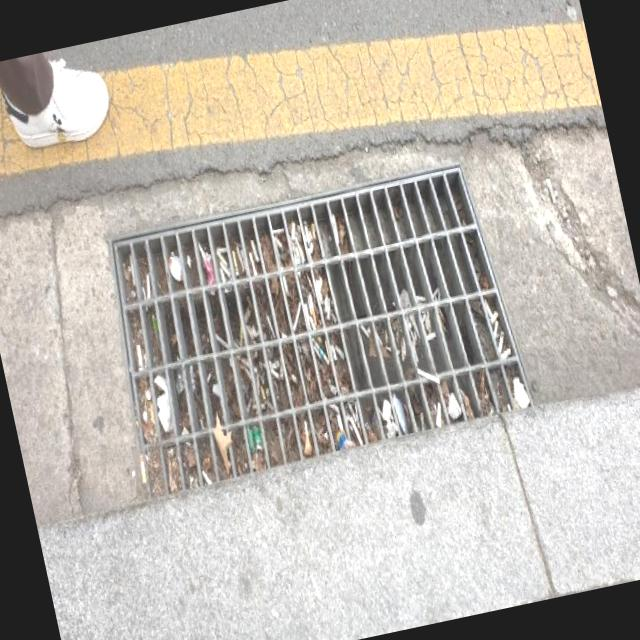drain_area: (314, 172, 484, 394)
drain_full: (116, 170, 534, 500)
